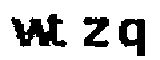q: (116, 16, 151, 60)
t: (48, 12, 72, 49)
w: (7, 15, 51, 51)
z: (79, 14, 112, 50)
